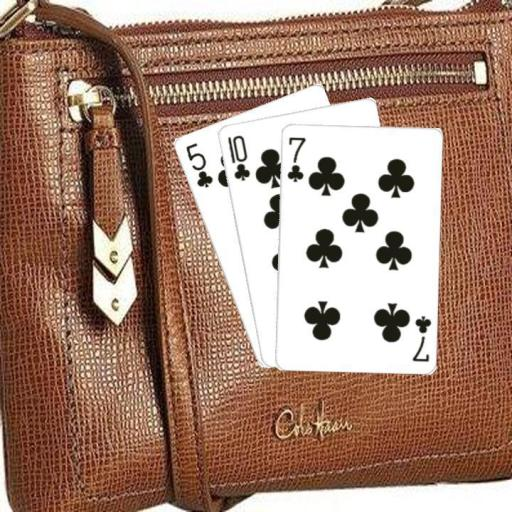10C: (224, 132, 251, 182)
5C: (182, 140, 214, 190)
7C: (409, 313, 432, 364), (284, 133, 307, 183)
